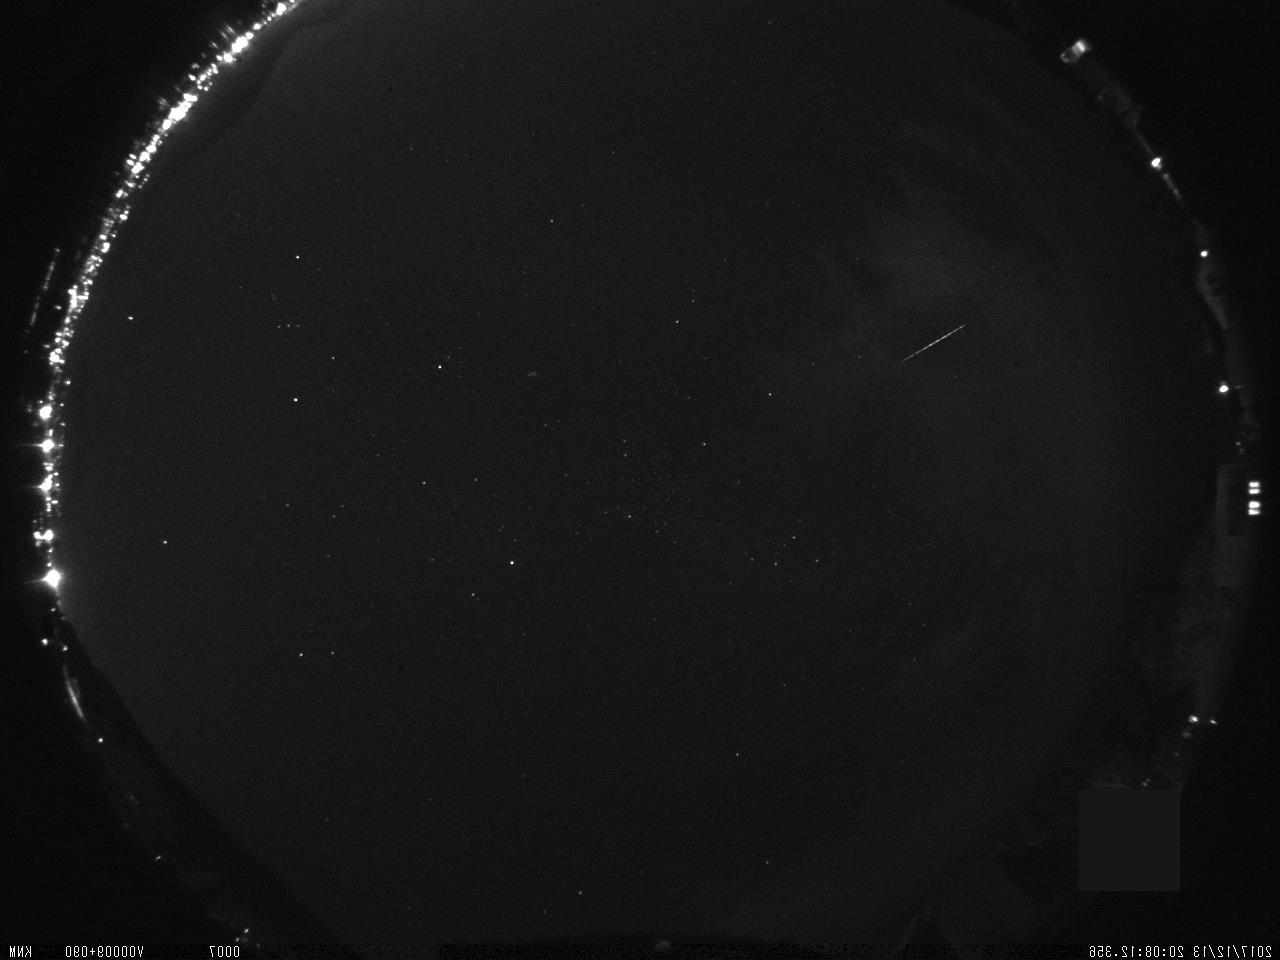meteor: (890, 315, 973, 370)
